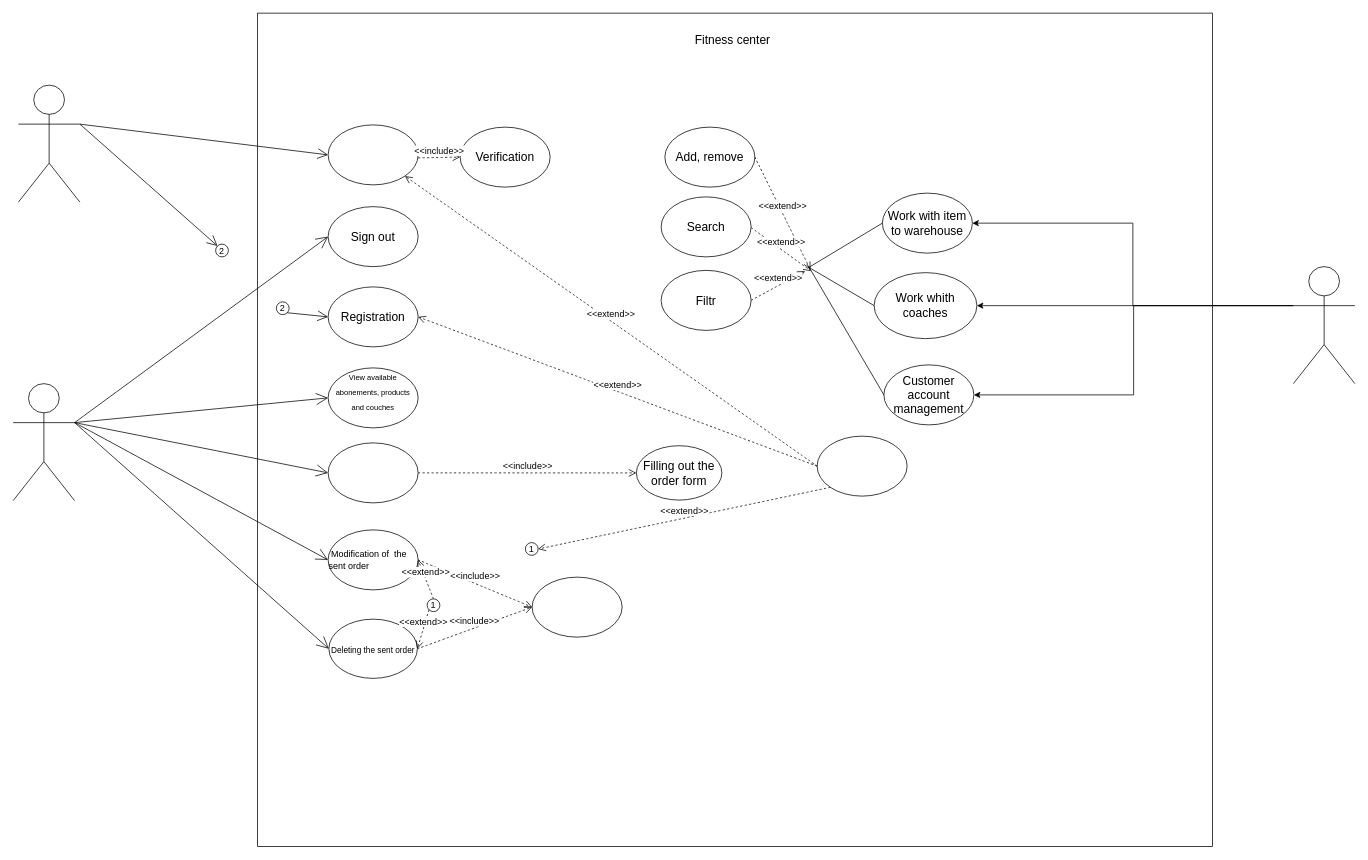
Image size: 1368x860. Some labels were removed from this diagram. Here are the shapes that lost their labels. From the top down, the box of each, then its label:
(18, 84, 80, 202): New Client
(327, 124, 418, 185): Sign in
(1293, 266, 1355, 384): Admin
(12, 383, 75, 501): Client
(327, 442, 418, 503): Making, sending order
(816, 435, 907, 496): Display error
(531, 576, 622, 637): Enter order id
